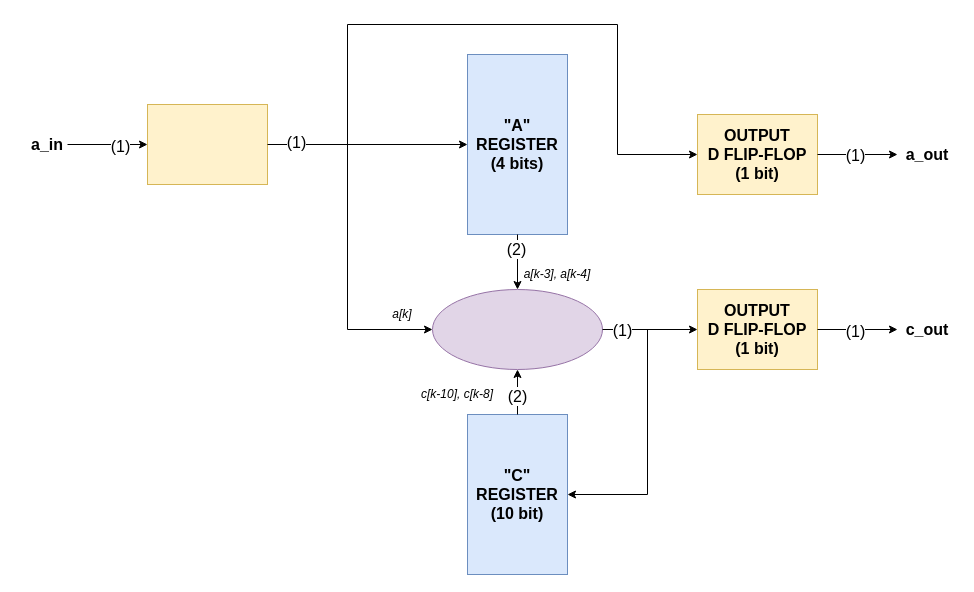
The diagram is 974 pixels wide and 592 high, and some of its shapes have lost their labels. Here are the shapes that lost their labels. From the top down, the box of each, then its label:
(146, 104, 268, 184): INPUT D FLIP-FLOP (1 bit)
(432, 288, 602, 370): COMBINATIONAL LOGIC
